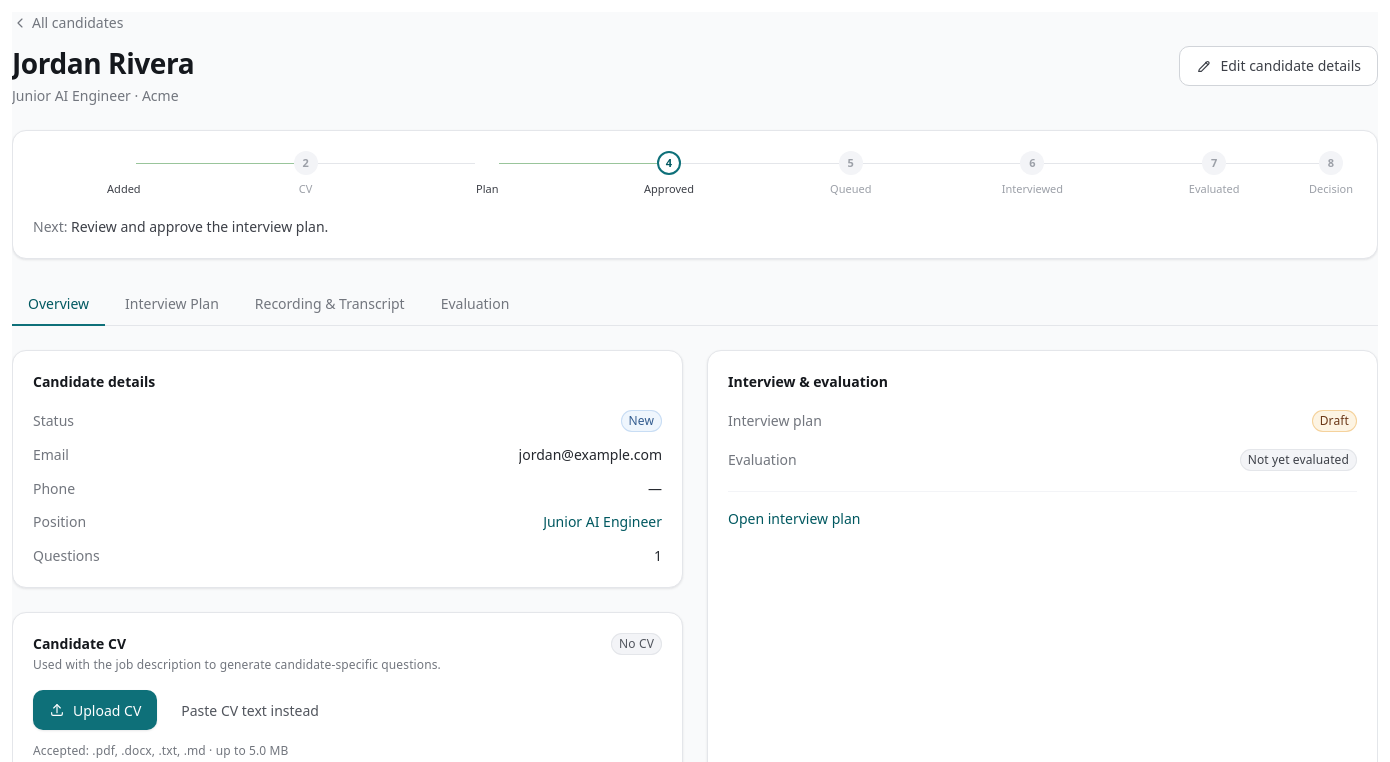
CandidateDetailPage › keeps Prepare interview in the sticky interview-plan toolbar
Click the tab "Interview Plan" at (172, 304), box [109,283,235,326]
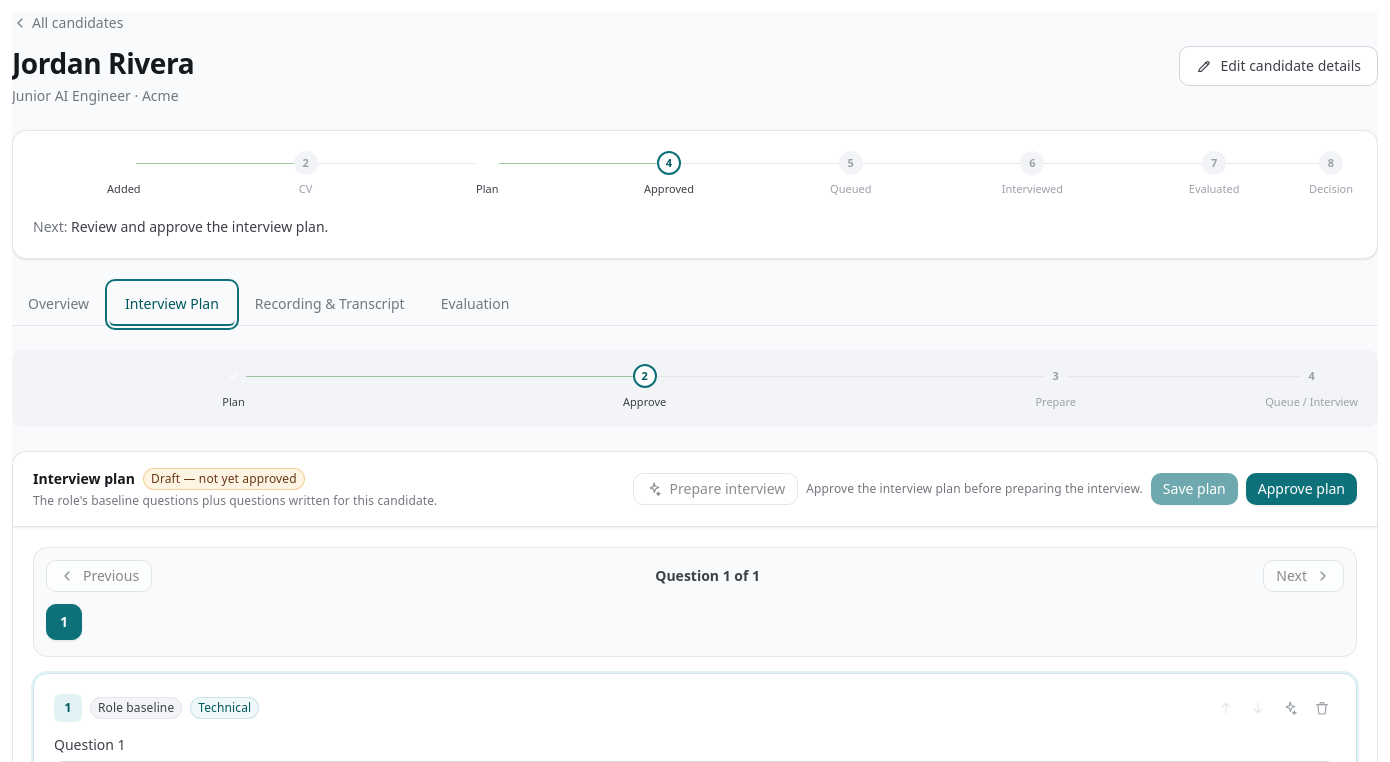
Check: the button "Prepare interview" is shown, box [633,473,798,505]
Check: the button "Save plan" is shown, box [1151,473,1238,505]
Check: the button "Approve plan" is shown, box [1246,473,1357,505]
